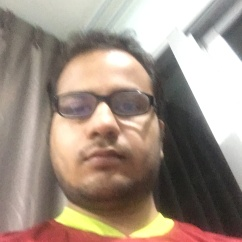glasses: (51, 91, 159, 116)
